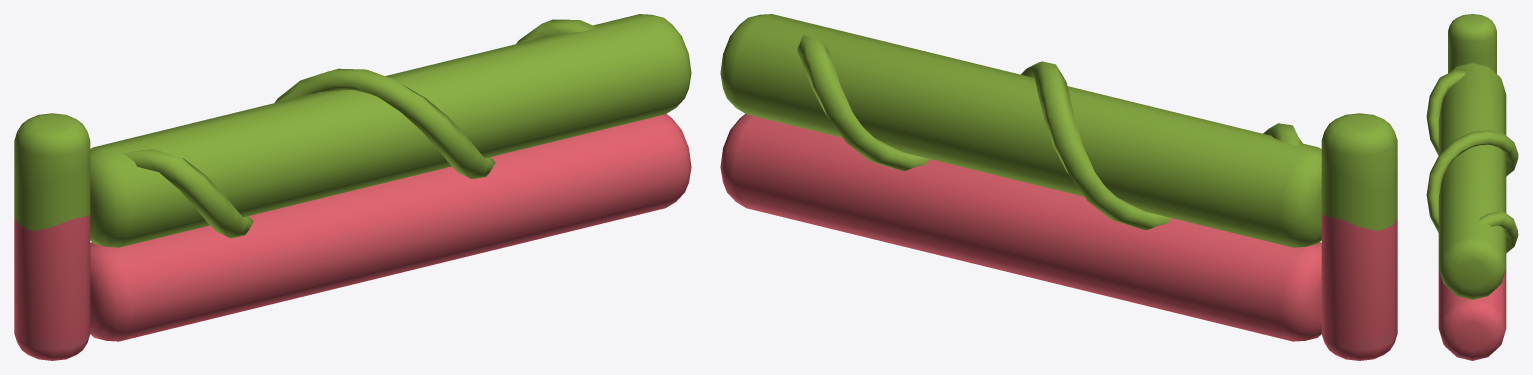
Rendered from rotatingOne.fbx.
3 views of the same model, side by side, from view 1: azimuth 30°, elevation 25°; view 2: azimuth 150°, elevation 25°; view 3: azimuth 270°, elevation 25° (orthographic). The views are drawn at different scales.
Parts seen in each view (by area): view 1: rotatingOne; view 2: rotatingOne; view 3: rotatingOne.
Boxes of the visible parts, x1,y1,x2,y2 form: rotatingOne: (14,14,691,360); rotatingOne: (720,14,1397,360); rotatingOne: (1426,14,1518,360).
Bounding box in the file's own units: 300 × 100 × 56.03.
Materials: 1 (1 with a texture image).
